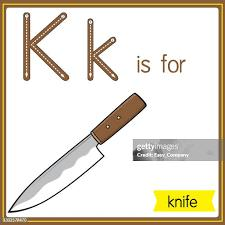Knife: (7, 92, 146, 212)
